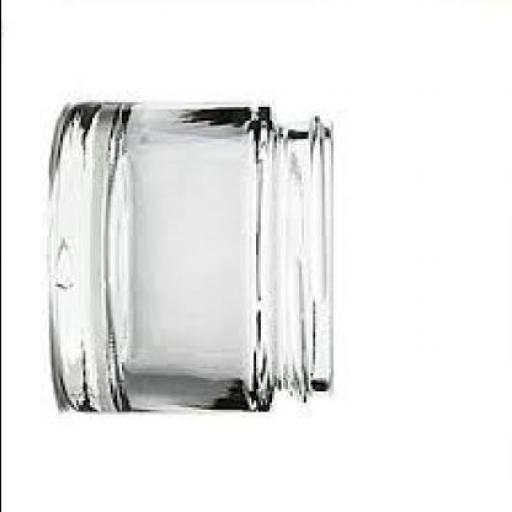glass: (52, 105, 334, 412)
